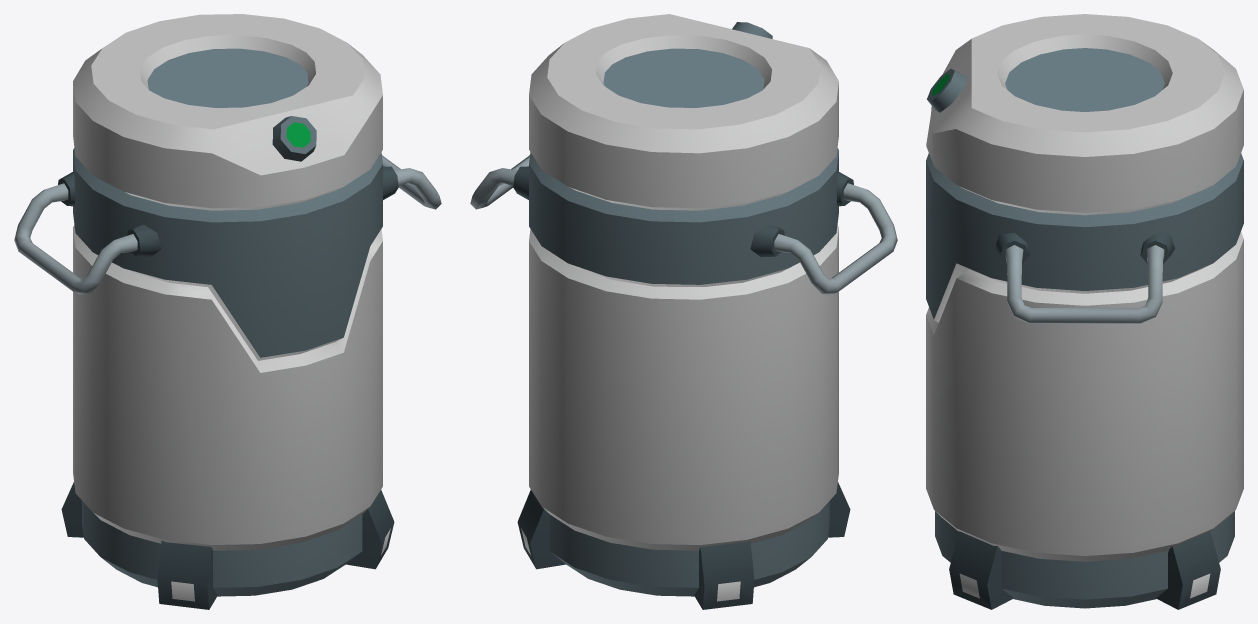
File: Barrel_007.fbx
3 views of the same model, side by side, from view 1: azimuth 30°, elevation 25°; view 2: azimuth 150°, elevation 25°; view 3: azimuth 270°, elevation 25° (orthographic).
Visible parts, largest first — view 1: Barrel_007; view 2: Barrel_007; view 3: Barrel_007.
Boxes of the visible parts, left/top/right/bottom form: Barrel_007: left=14, top=14, right=441, bottom=609; Barrel_007: left=470, top=14, right=897, bottom=609; Barrel_007: left=926, top=14, right=1243, bottom=609.
Size of the model in its own units: 80.98 by 60 by 101.
